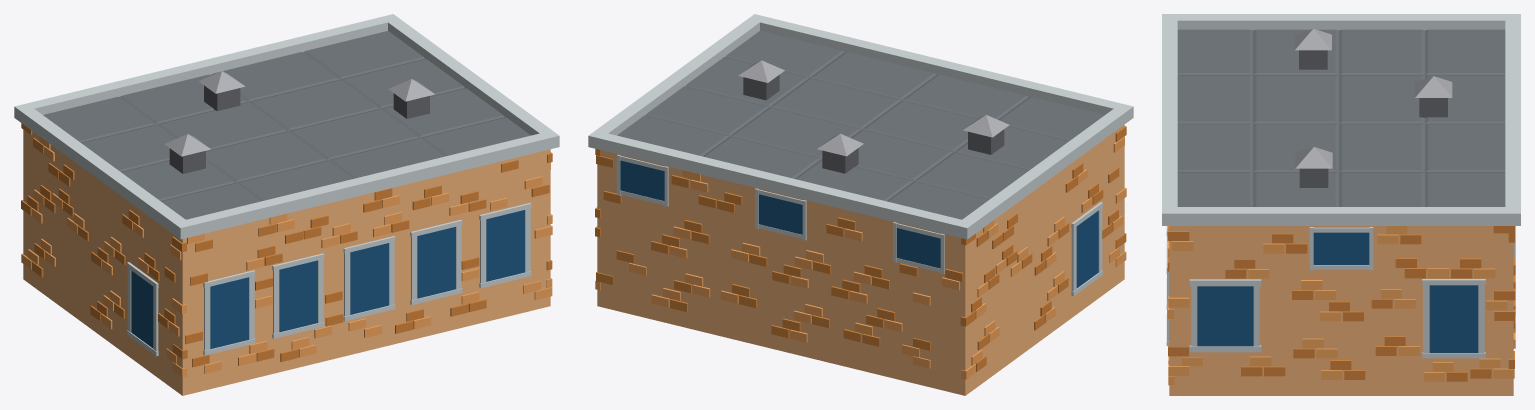
The model's file is SM_House_20_B.FBX.
The picture shows the model from 3 angles, left to right: view 1: azimuth 30°, elevation 25°; view 2: azimuth 150°, elevation 25°; view 3: azimuth 270°, elevation 25°; orthographic projection. The views are drawn at different scales.
Parts seen in each view (by area): view 1: SM_House_20_B; view 2: SM_House_20_B; view 3: SM_House_20_B.
Part boxes in pixels (box(x1,y1,x2,y2)): SM_House_20_B: box(14, 14, 559, 395); SM_House_20_B: box(588, 14, 1133, 395); SM_House_20_B: box(1162, 14, 1520, 395).
Size of what is drawn, in the model's own units: 1153 by 876 by 569.
